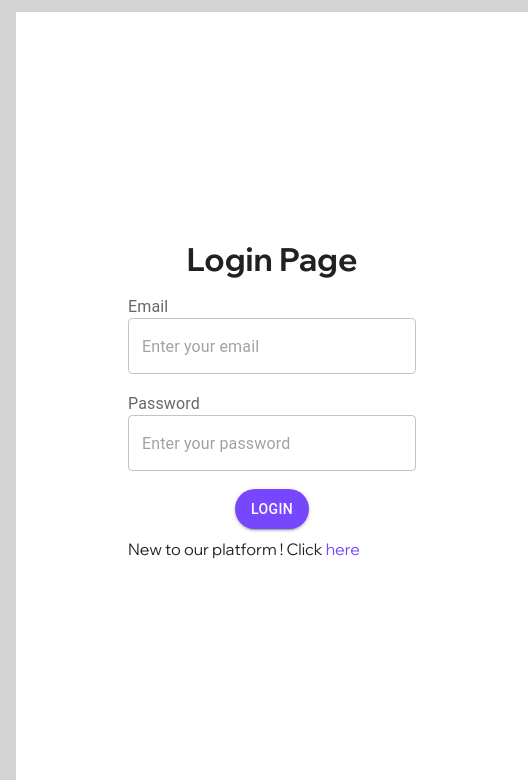
it: AUTH PAGE TEST CASES › renders Register page on click `here`
Click the button "here": (343, 549) left=326, top=539, right=360, bottom=559
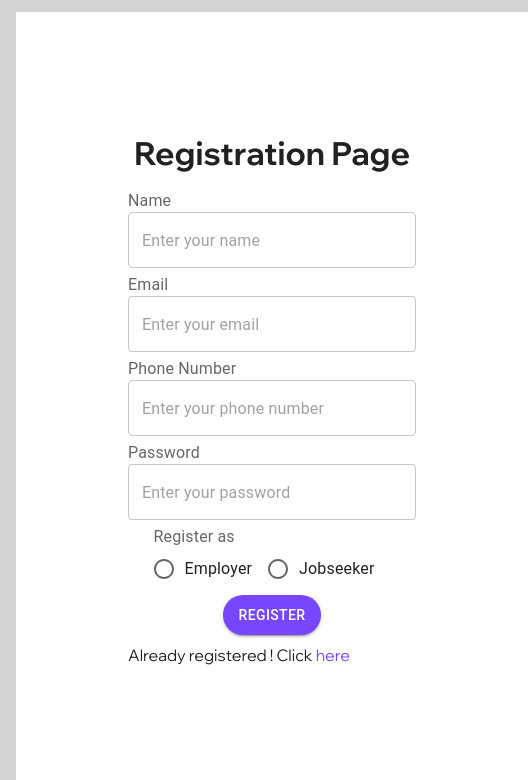
Result: the button "Register" is shown at left=222, top=595, right=322, bottom=635
